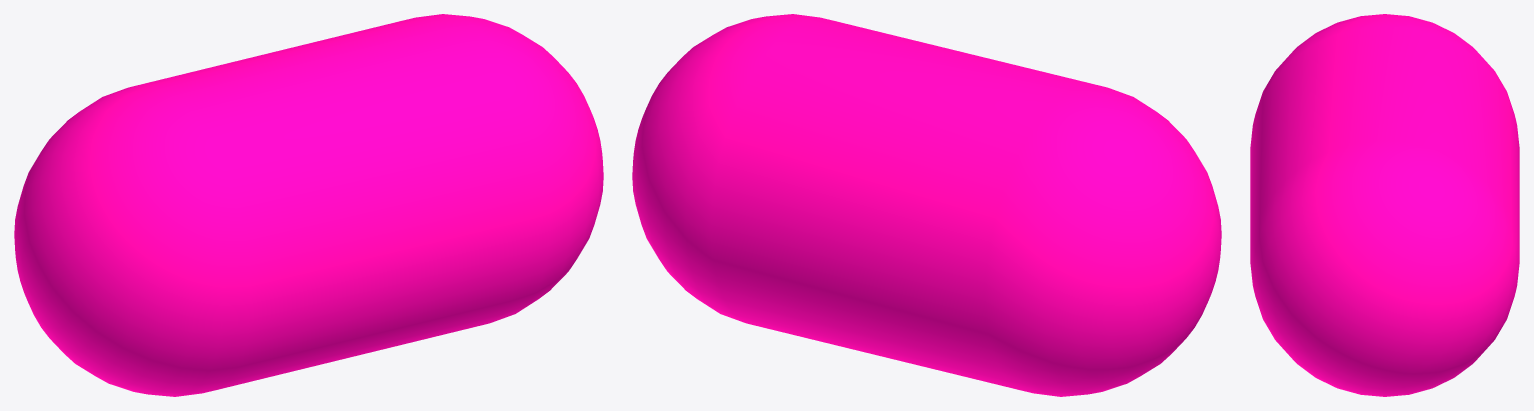
Rendered from block_pink.glb.
3 views of the same model, side by side, from view 1: azimuth 30°, elevation 25°; view 2: azimuth 150°, elevation 25°; view 3: azimuth 270°, elevation 25° (orthographic). The views are drawn at different scales.
Visible parts, largest first — view 1: Sphere; view 2: Sphere; view 3: Sphere.
Part boxes in pixels (box(x1,y1,x2,y2)): Sphere: box(14, 14, 603, 396); Sphere: box(632, 14, 1221, 396); Sphere: box(1250, 14, 1519, 396).
Size of the model in its own units: 2 by 1 by 1.
